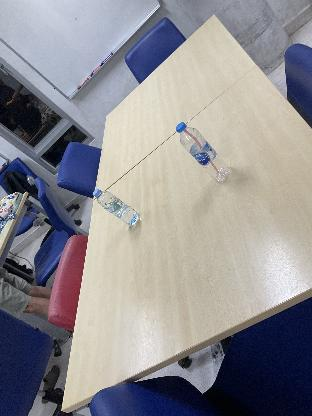Plastic Bottle: (174, 121, 230, 181), (92, 188, 140, 228)
